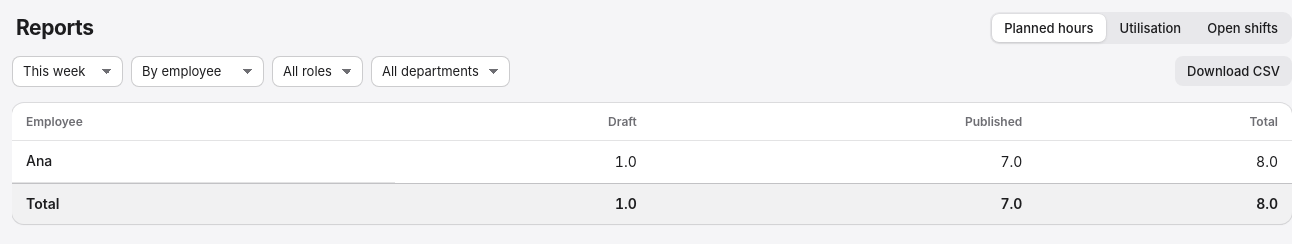
ReportsPage › hides the table and disables the download when the custom range is invalid
Expected: the column heading "Ana" is shown, [12,141,395,182]
Select "Custom" in the dropdown named "Period" at (68, 71), box [12,56,123,87]
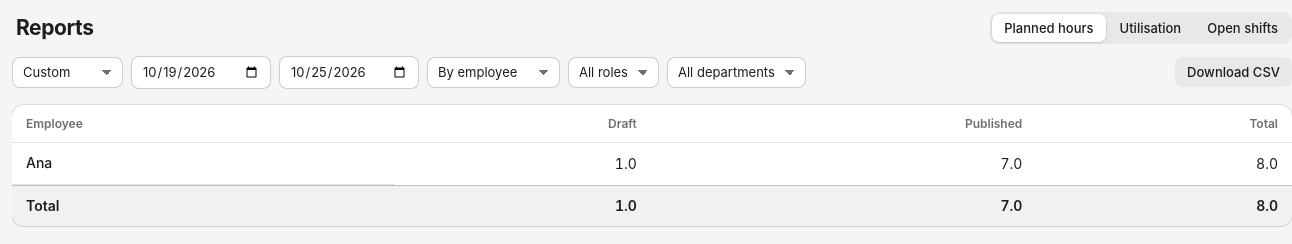
Type "2999-01-01" into the date field named "From" at (201, 72), box [131,56,271,89]
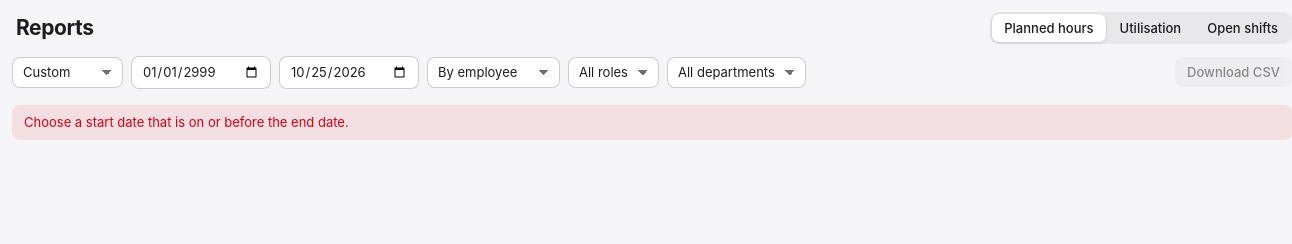
Expected: the column heading "Ana" is gone
Expected: the message shows "Choose a start date", [24,114,349,130]
